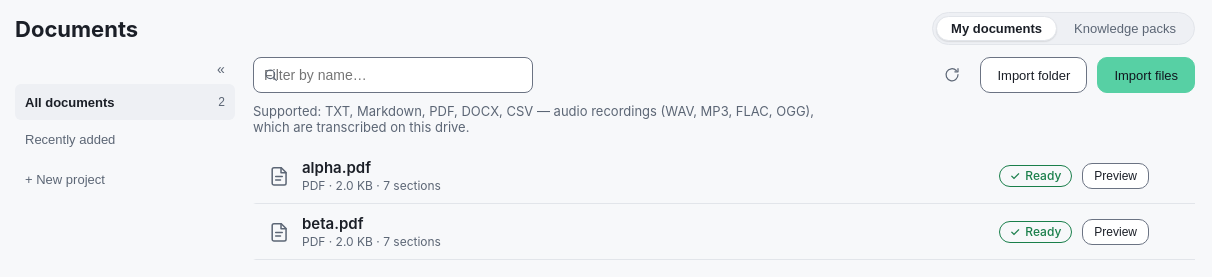
DocumentsScreen — DR-4 per-row preview loading › opening one row’s preview does not disable/relabel or re-render the other rows
Check: the text "alpha.pdf" is shown, box [302, 158, 371, 176]
Check: the text "beta.pdf" is shown, box [302, 214, 364, 232]
Click the button "Preview" in the row of "alpha.pdf" at (1116, 176), box [1082, 162, 1149, 188]
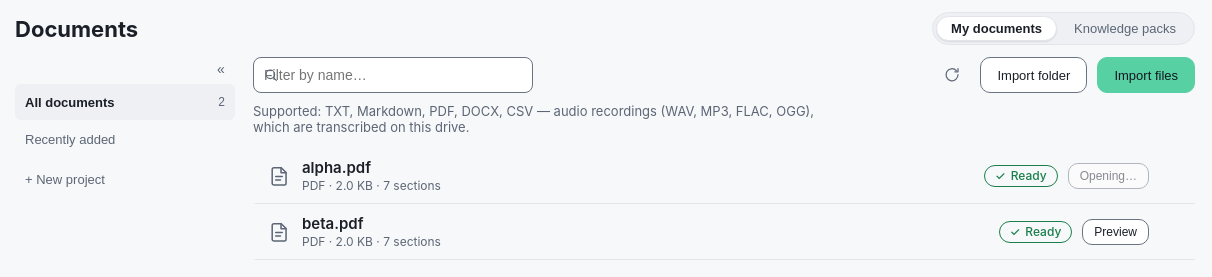
Check: the button "Preview" is shown, box [1082, 218, 1149, 244]
Check: the button named "Preview" reads "Opening…", box [1068, 162, 1149, 188]
Check: the button named "Preview" is disabled, box [1068, 162, 1149, 188]
